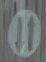Two way: (3, 5, 43, 61)
